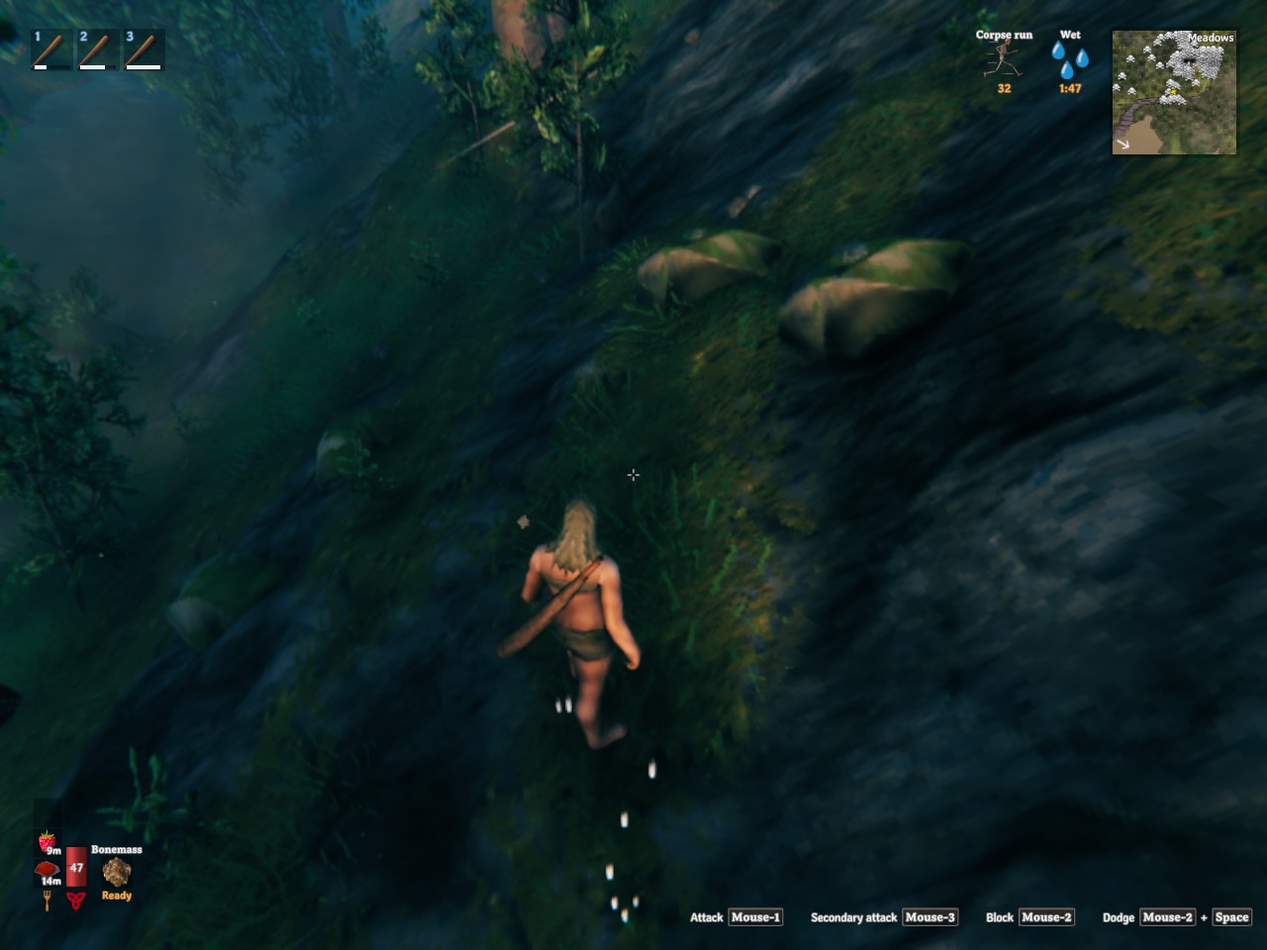Food Indicator: (36, 797, 63, 891)
Health Bar: (63, 820, 90, 891)
Hotbar: (24, 21, 195, 80)
Status Indicator: (964, 24, 1110, 103)
Stone: (727, 185, 760, 219), (371, 342, 388, 360), (684, 29, 700, 44)
